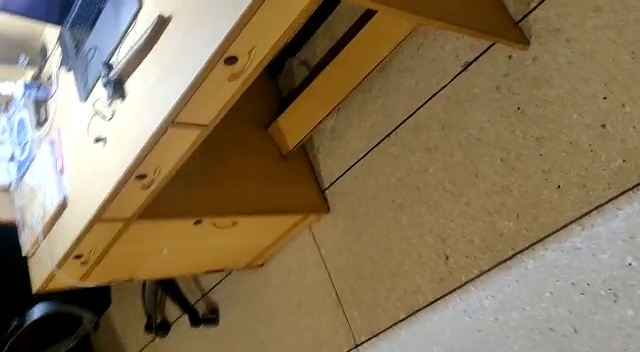hammer: (98, 14, 168, 100)
